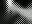person: (4, 1, 32, 24)
